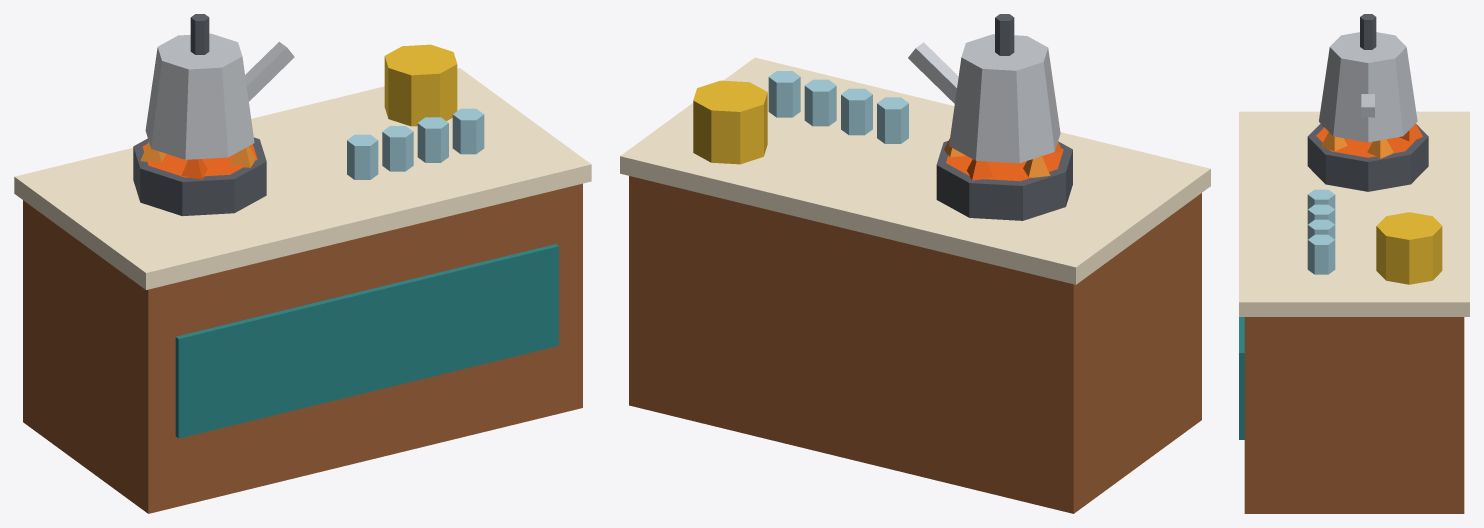
Rendered from station_chai.glb.
3 renders of one model, left to right at view 1: azimuth 30°, elevation 25°; view 2: azimuth 150°, elevation 25°; view 3: azimuth 270°, elevation 25°, orthographic. The views are drawn at different scales.
Visible parts, largest first — view 1: station_chai; view 2: station_chai; view 3: station_chai.
Boxes of the visible parts, x1,y1,x2,y2 form: station_chai: [14, 14, 591, 513]; station_chai: [620, 14, 1210, 513]; station_chai: [1239, 14, 1469, 513].
Bounding box in the file's own units: 1.64 × 1.46 × 0.84.
1 material, 1 textured.
